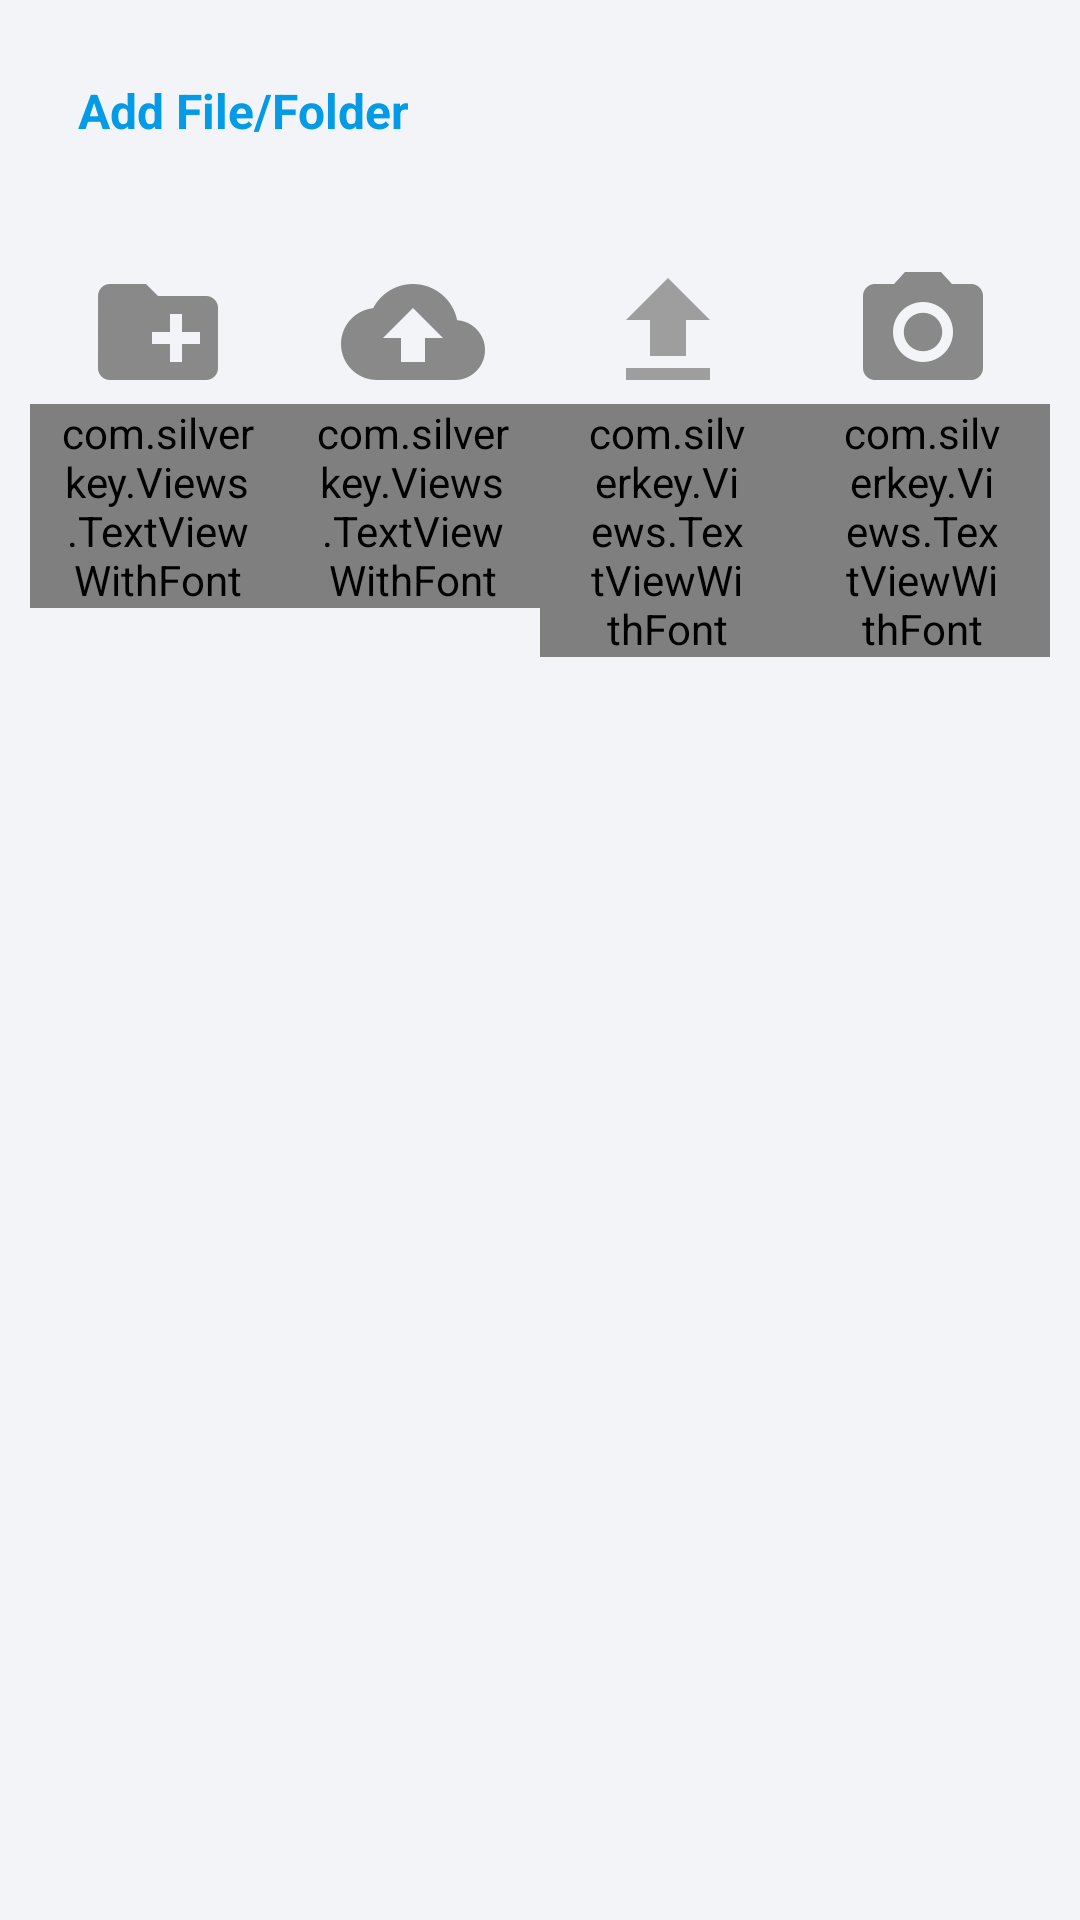

Screen size 1080w x 1920h. Icon name, then its box in pixels as (x1, y1, x2, y2):
create folder: (98, 284, 218, 380)
file upload: (626, 278, 710, 380)
photo capture: (863, 272, 983, 380)
